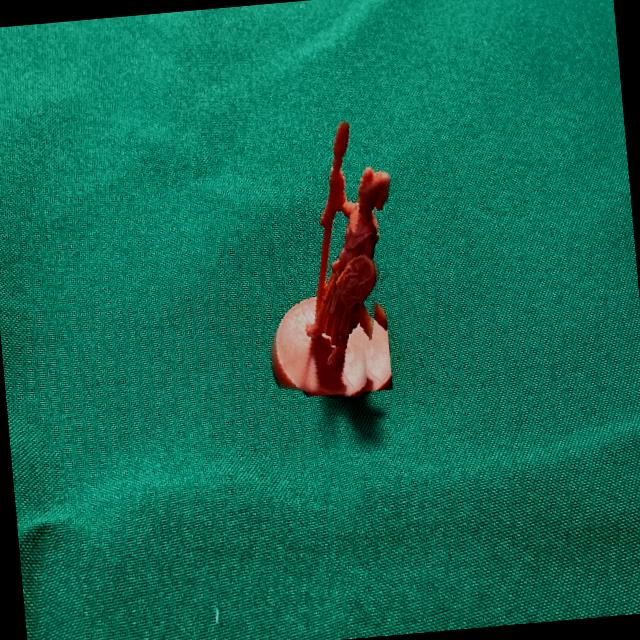amon_follower: (270, 120, 390, 398)
